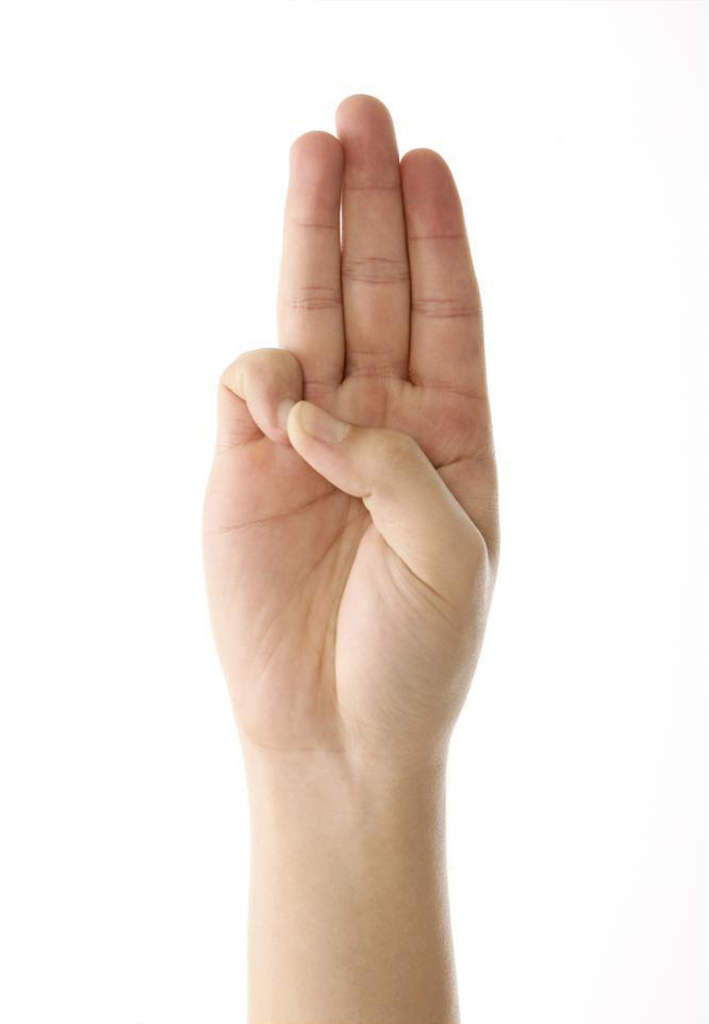Person: (202, 92, 500, 1023)
